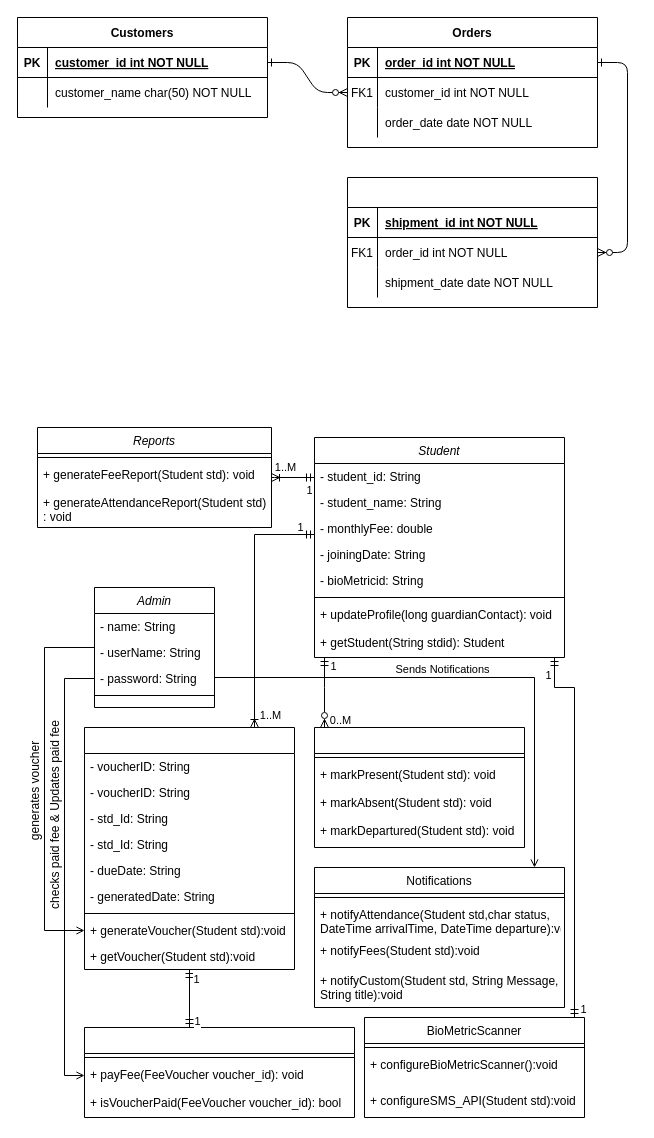
Image size: 654x1138. Some labels were removed from this diagram. Each missing label, with the box of its shape:
AttendanceRecord: (314, 726, 524, 848)
Fee Voucher: (84, 726, 294, 970)
FeeRecordManager: (84, 1026, 354, 1118)
Shipments: (346, 176, 598, 308)
